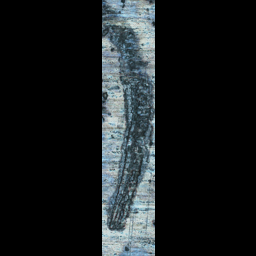d: (103, 4, 154, 234)
